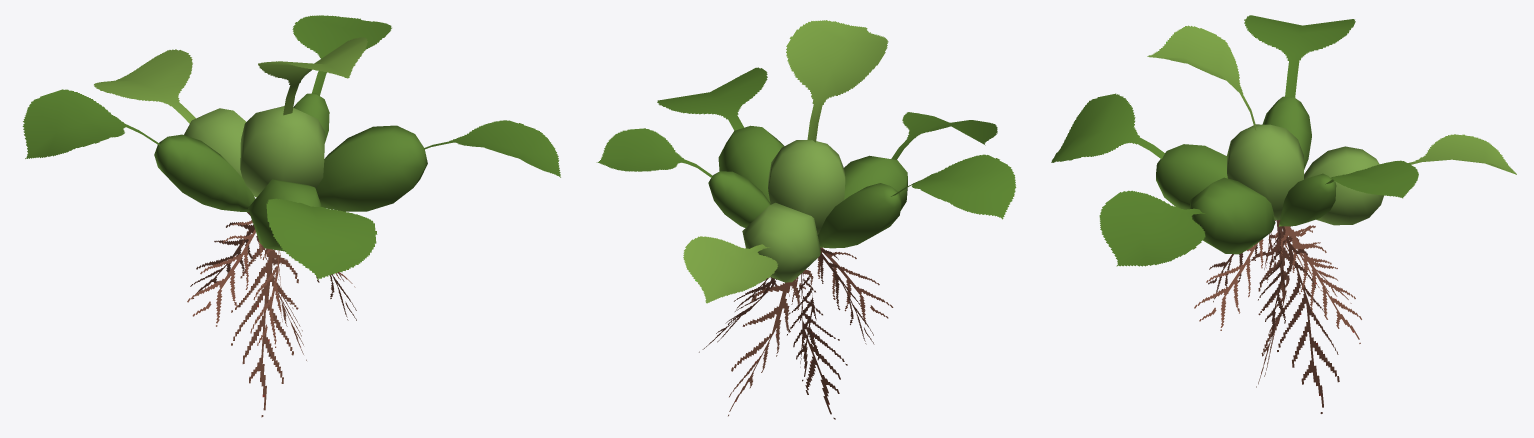
The model's file is Water_Hyacinth_3.gltf.
The picture shows the model from 3 angles, left to right: view 1: azimuth 30°, elevation 25°; view 2: azimuth 150°, elevation 25°; view 3: azimuth 270°, elevation 25°; orthographic projection. The views are drawn at different scales.
Parts seen in each view (by area): view 1: Water_Hyacinth_3; view 2: Water_Hyacinth_3; view 3: Water_Hyacinth_3.
Boxes of the visible parts, box(x1,y1,x2,y2) form: Water_Hyacinth_3: box(22, 15, 560, 417); Water_Hyacinth_3: box(596, 20, 1016, 419); Water_Hyacinth_3: box(1051, 15, 1516, 413).
Bounding box in the file's own units: 36.75 × 30.97 × 36.44.
1 material, 1 textured.
